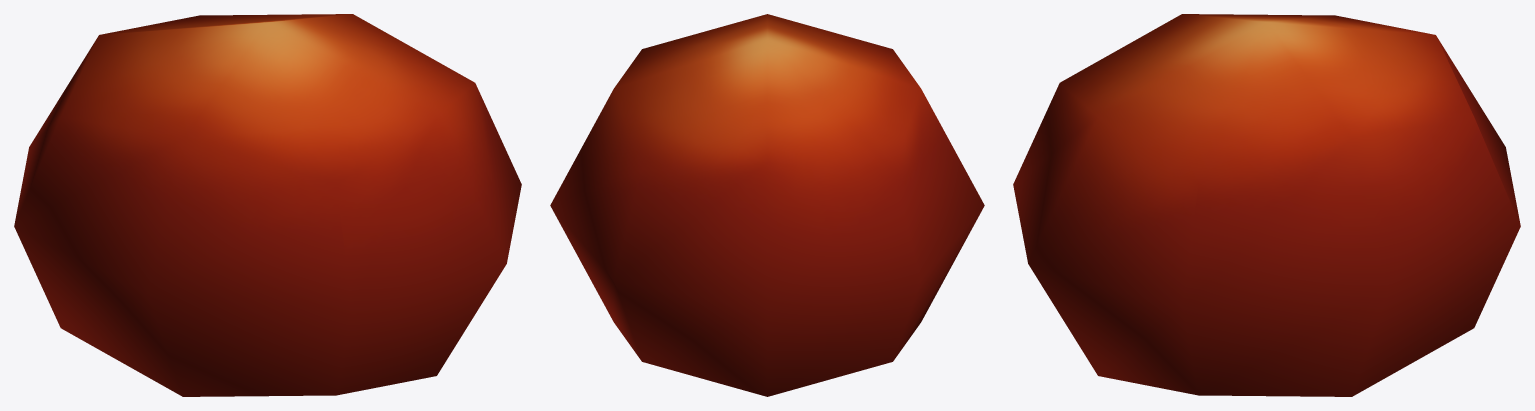
The model's file is Fern Berry.fbx.
The picture shows the model from 3 angles, left to right: view 1: azimuth 30°, elevation 25°; view 2: azimuth 150°, elevation 25°; view 3: azimuth 270°, elevation 25°; orthographic projection. The views are drawn at different scales.
Parts seen in each view (by area): view 1: Berry; view 2: Berry; view 3: Berry.
Boxes of the visible parts, x1=… form: Berry: x1=14, y1=14, x2=521, y2=396; Berry: x1=550, y1=14, x2=984, y2=396; Berry: x1=1013, y1=14, x2=1520, y2=396.
Size of the model in its own units: 26.93 by 18.96 by 27.94.
1 material, 1 textured.
